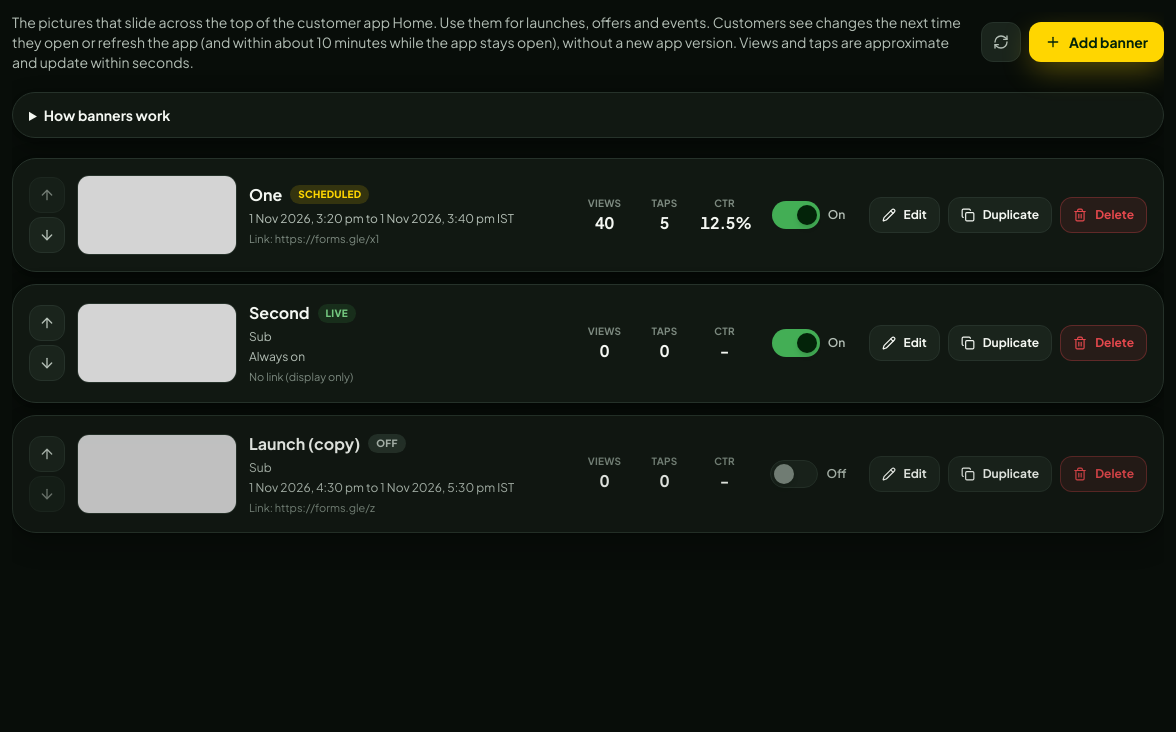
BannersPanel reorder › a failed save keeps the admin's order and the bar, and shows the server message
Click the button named "Move One down" at (47, 235), box [29, 217, 65, 253]
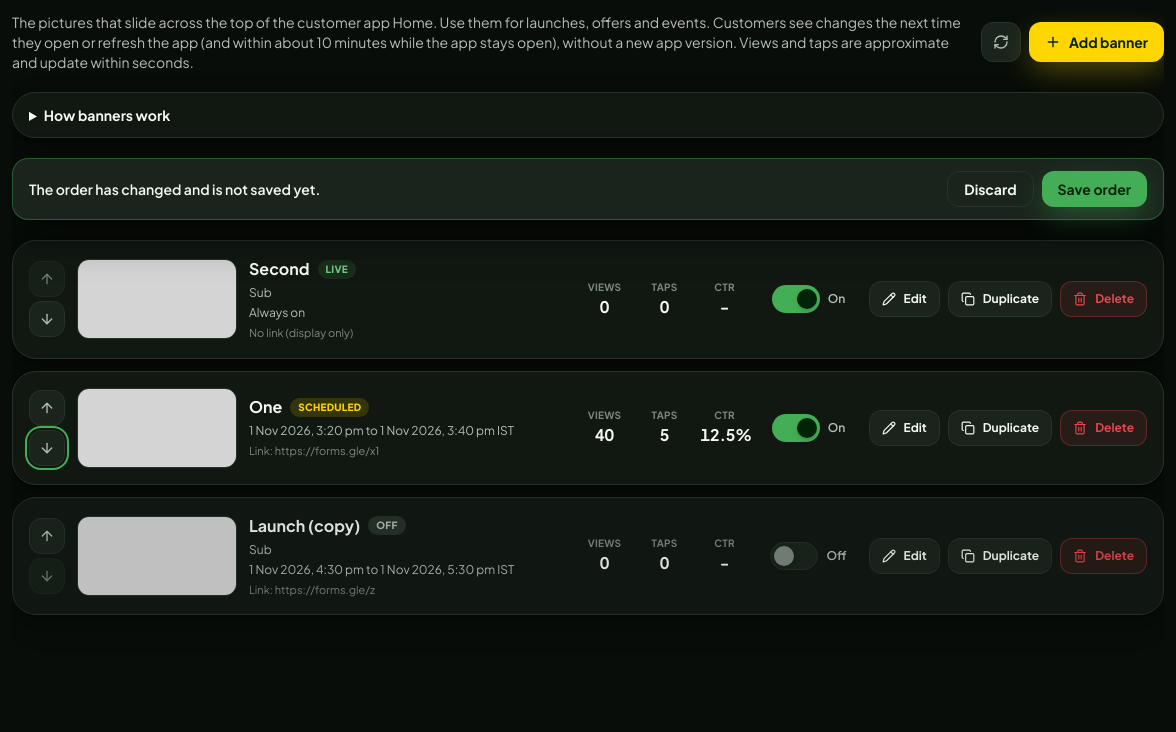
Click the button "Save order" at (1094, 189), box [1042, 171, 1147, 207]
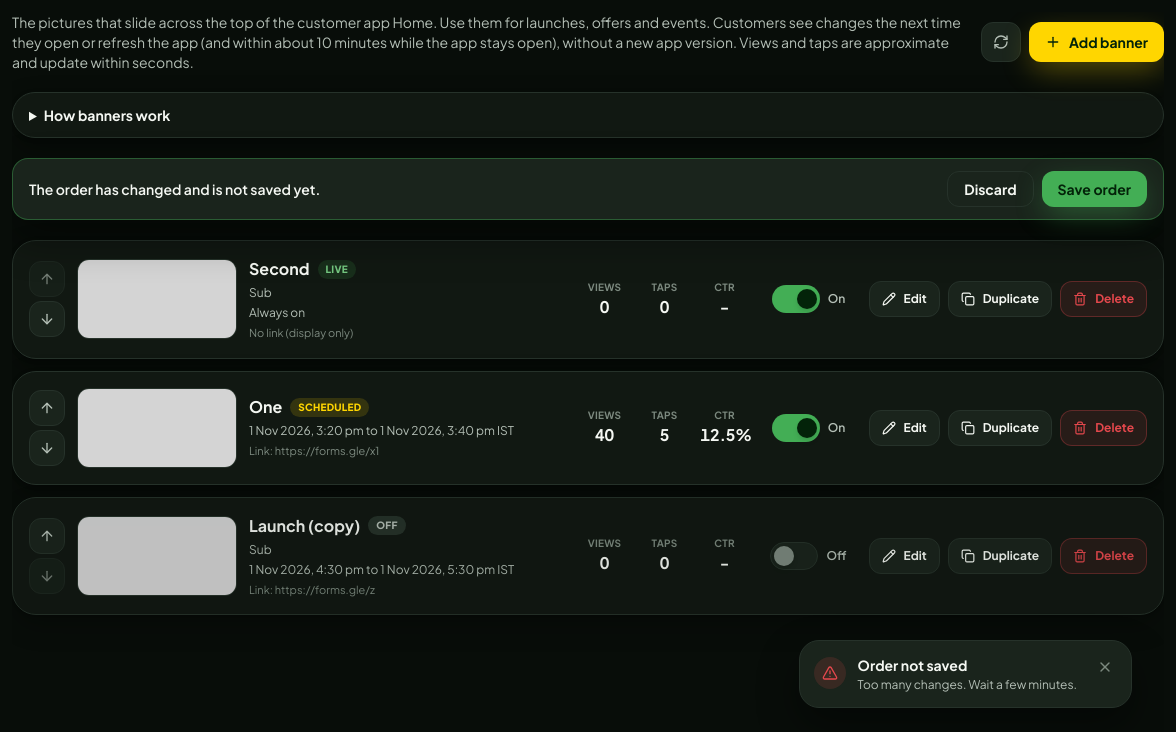
expect the element named "Unsaved order" is shown: met, box [12, 158, 1164, 220]
expect the text "Order not saved" is shown: met, box [858, 656, 967, 674]
expect the text "Too many changes. Wait a few minutes." is shown: met, box [858, 677, 1077, 693]
